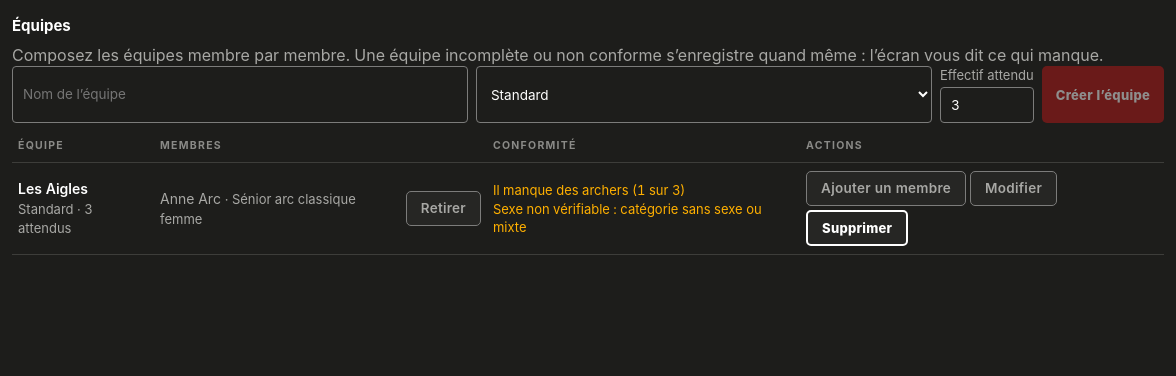
Équipes › affiche tel quel le message du 409 « une équipe par type »
This screenshot has width=1176, height=376.
Click the button with aria-label "Ajouter un membre à l’équipe Les Aigles". click: point(886, 189)
box: [806,171,966,206]
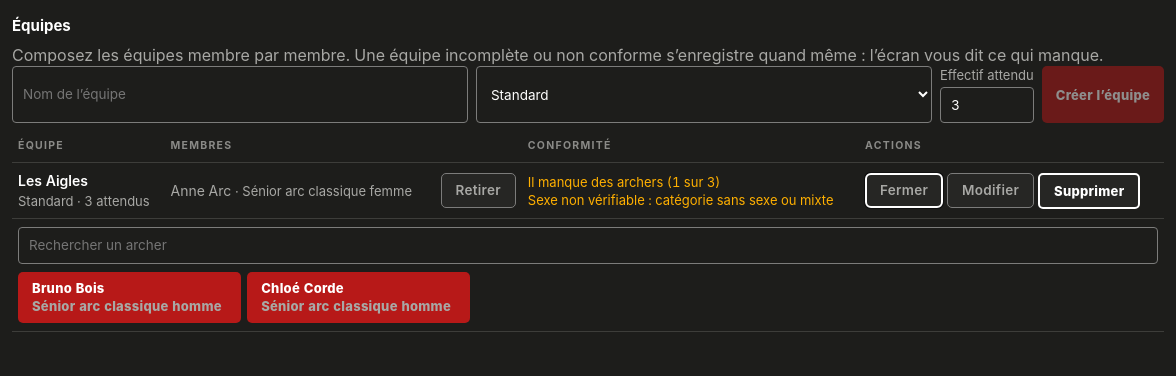
Click the button with aria-label "Ajouter Bruno Bois à l’équipe Les Aigles". click: point(130, 297)
box: [18,272,241,323]
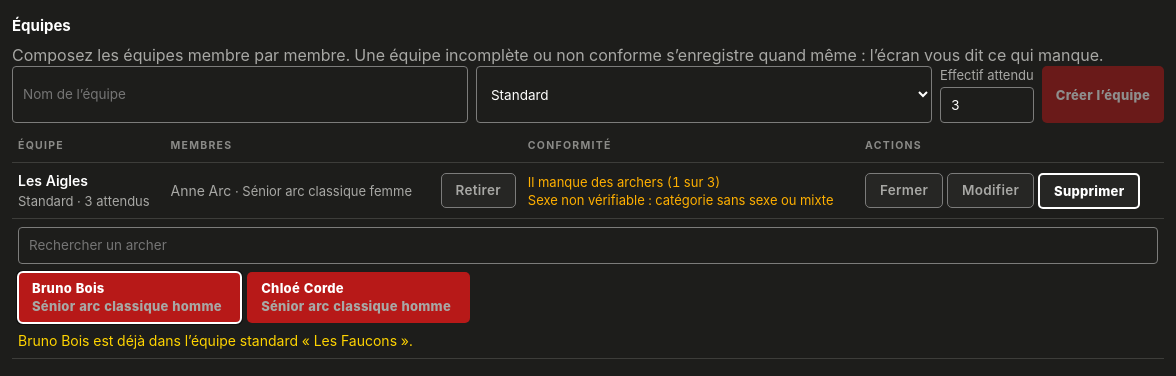
Result: the message reads "Bruno Bois est déjà dans l’équipe standard « Les Faucons »." at [18,332,413,349]
